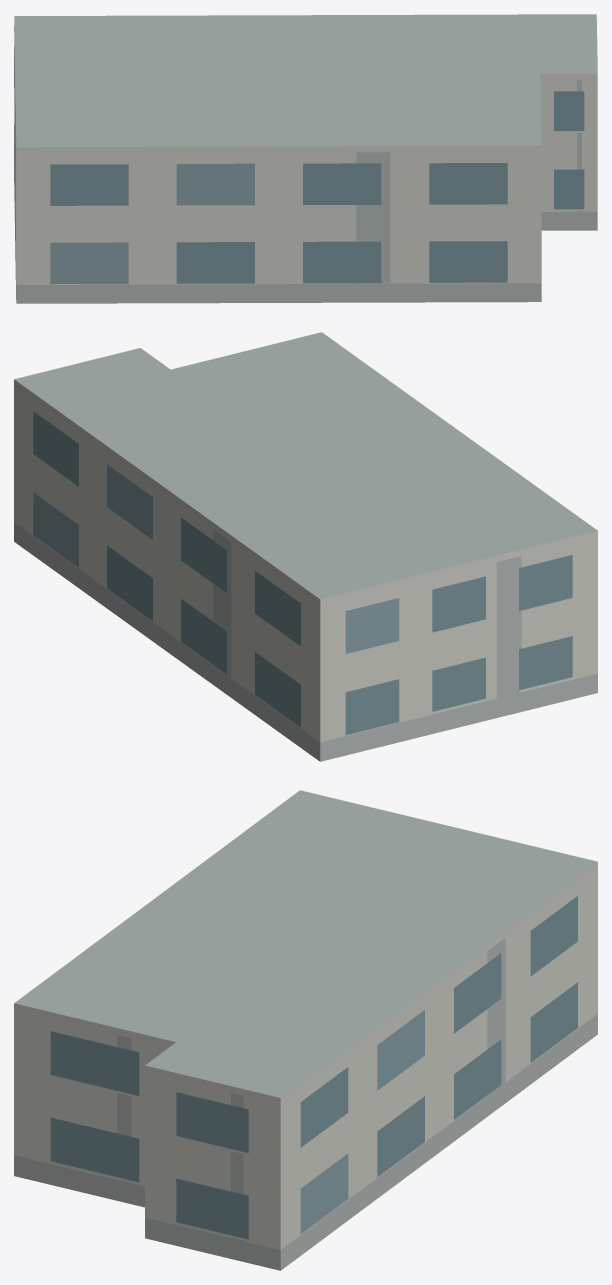
Rendered from residential-edd89afe-713f-4484-9684-607bf830a56d.glb.
The picture shows the model from 3 angles, top to bottom: view 1: azimuth 30°, elevation 25°; view 2: azimuth 150°, elevation 25°; view 3: azimuth 270°, elevation 25°; orthographic projection. The views are drawn at different scales.
Visible parts, largest first — view 1: residential-edd89afe-713f-4484-9684-607bf830a56d.tmp; view 2: residential-edd89afe-713f-4484-9684-607bf830a56d.tmp; view 3: residential-edd89afe-713f-4484-9684-607bf830a56d.tmp.
Part boxes in pixels (x1,y1,x2,y2): residential-edd89afe-713f-4484-9684-607bf830a56d.tmp: (14,14,597,303); residential-edd89afe-713f-4484-9684-607bf830a56d.tmp: (14,332,597,761); residential-edd89afe-713f-4484-9684-607bf830a56d.tmp: (14,790,597,1270).
Size of the model in its own units: 23.32 by 6.1 by 18.69.
